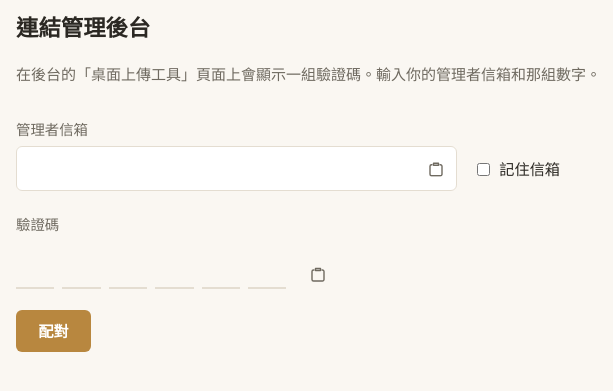
Test case: and the sentence is still there for anybody who cannot see it move
Type "418302" into the 1st field with class "code-slot".
click(35, 265); type("418302")  # box [16,242,54,289]
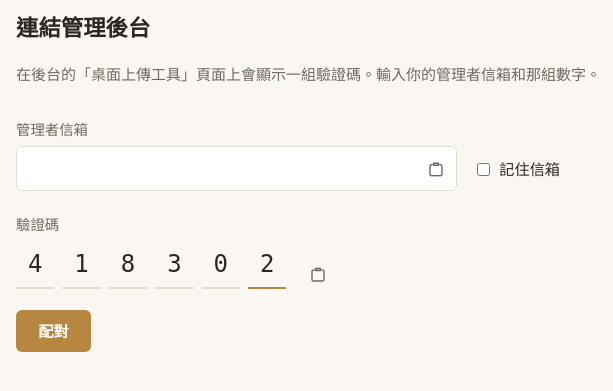
Submit the form, box [16,118,560,352]
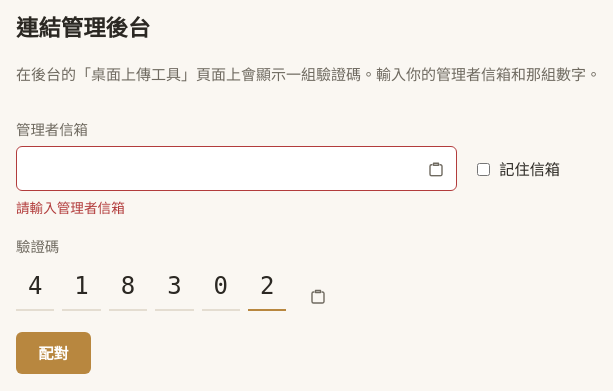
expect the message with class "t-error-msg" reads "請輸入管理者信箱": met, box [16,198,125,217]
